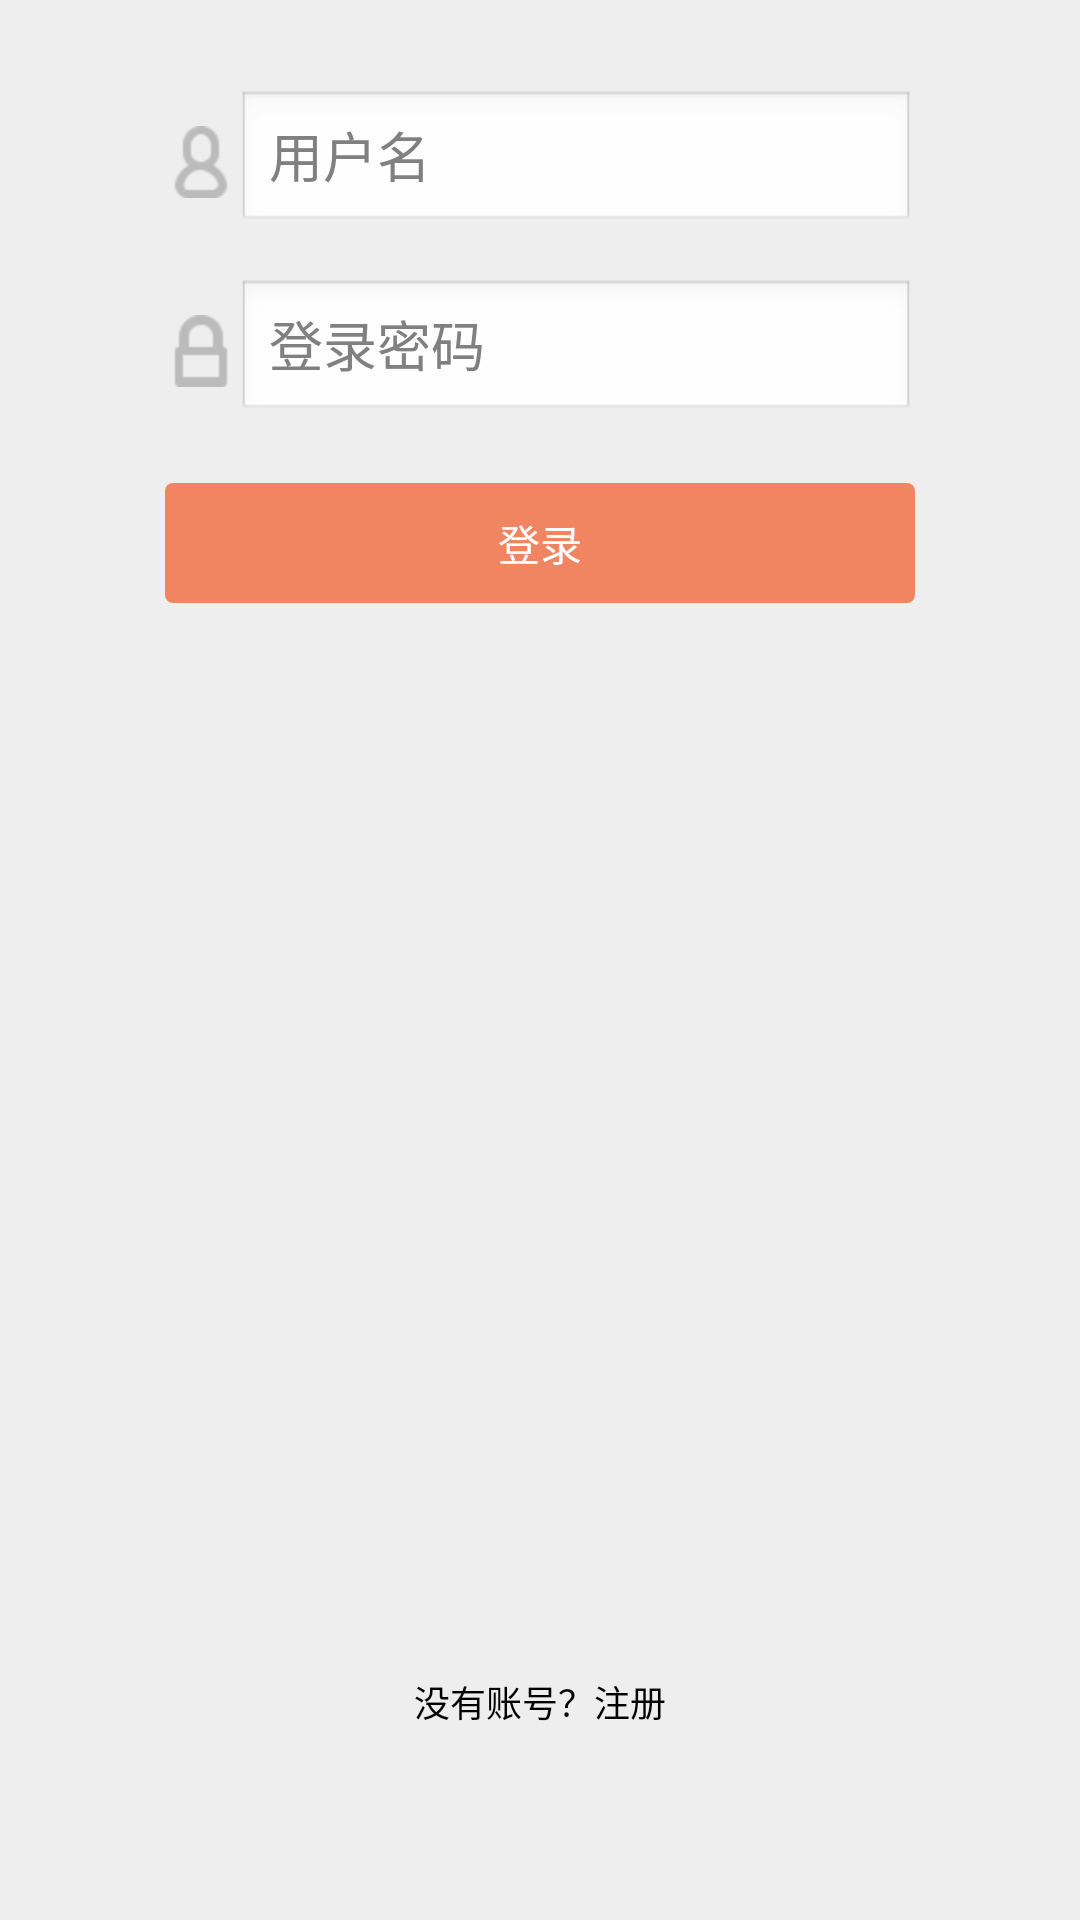

Named icons in this screenshot (1080×1920) and their centers, (x=x, y=y):
locked: (x=201, y=351)
user: (x=201, y=162)
